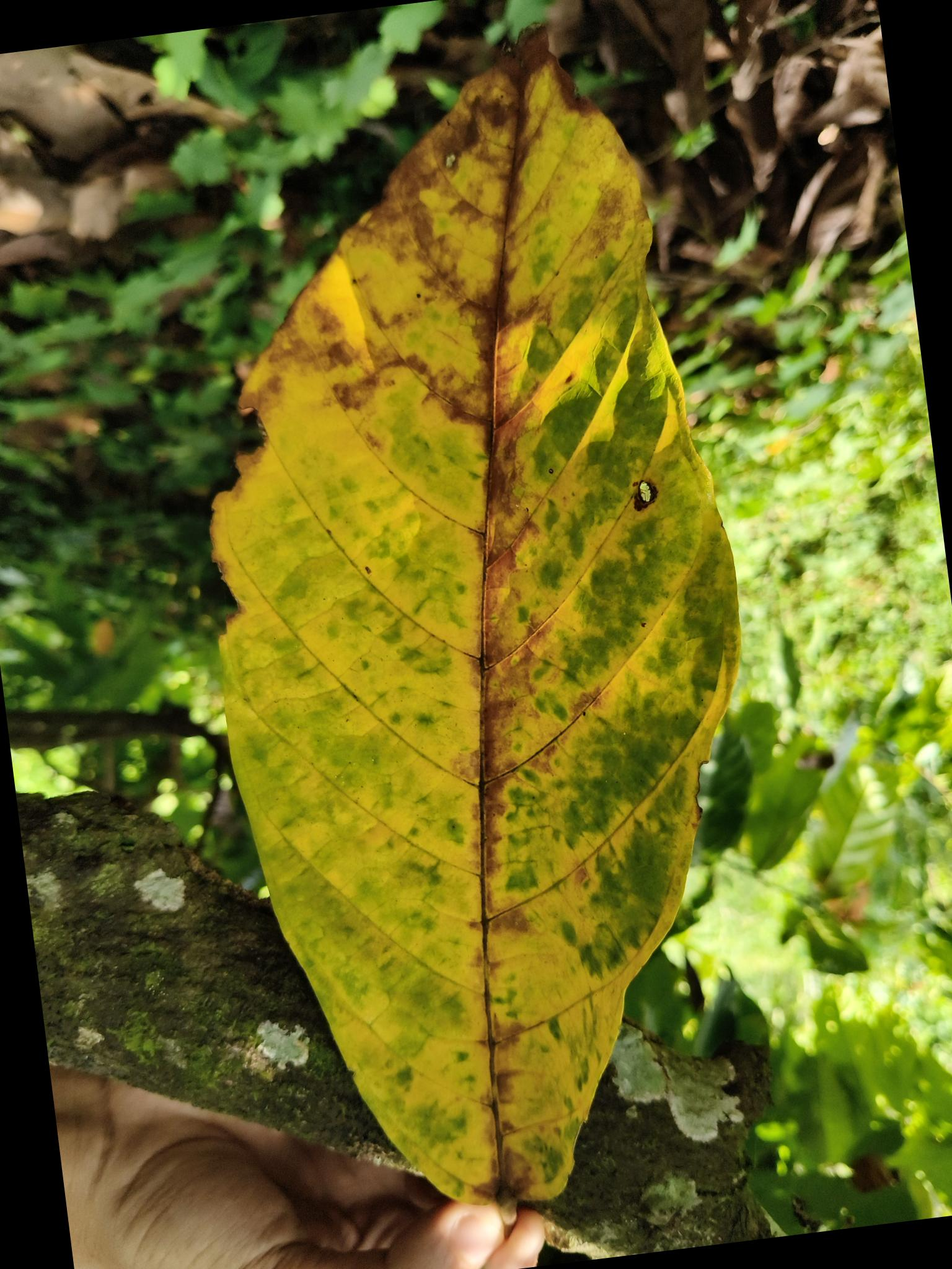Fosforo: (197, 22, 771, 1232)
